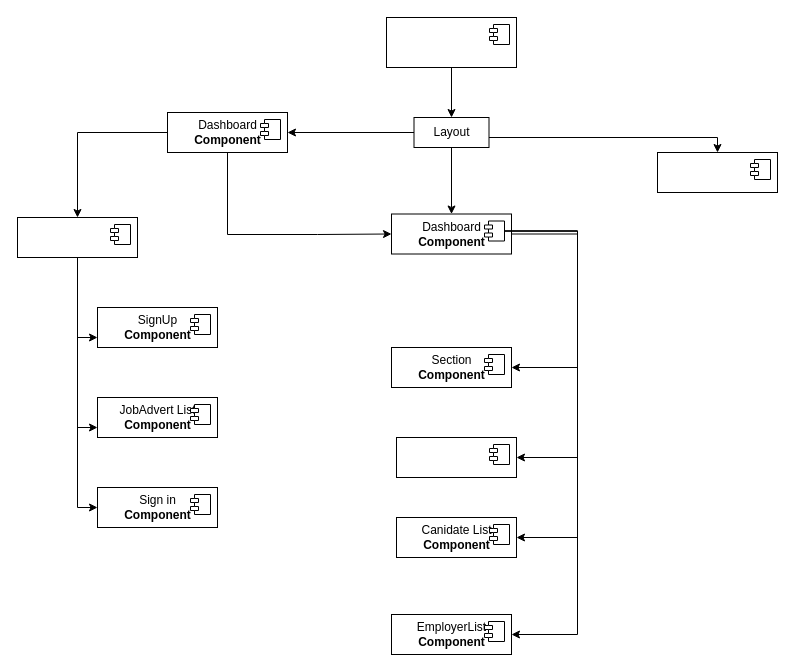
This 795x672 diagram has some shape labels left out. Here are the shapes that lost their labels. From the top down, the centre of each, then its label:
pixel 451 42: App Component
pixel 717 172: SideBar Component
pixel 77 237: Navi Component
pixel 456 457: Employee List Component
